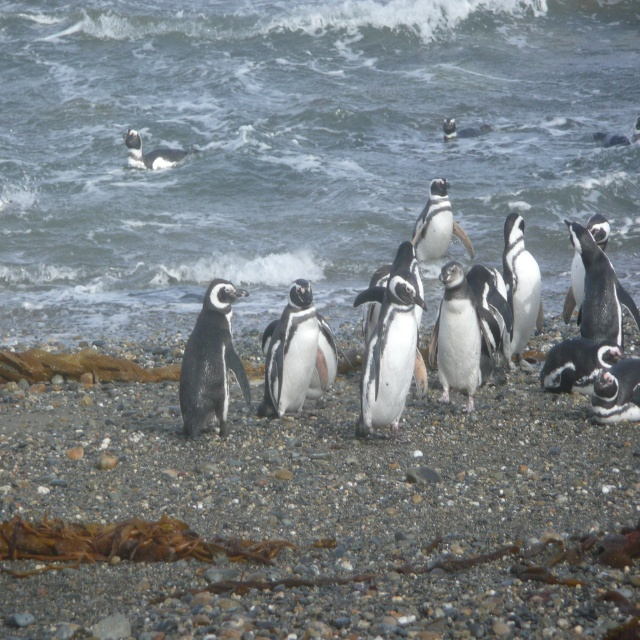Penguin: (356, 263, 426, 442), (171, 282, 246, 446), (560, 221, 640, 348), (423, 263, 490, 409), (258, 281, 324, 423), (359, 238, 430, 349), (258, 313, 340, 407), (411, 173, 472, 275), (504, 213, 542, 355), (538, 337, 623, 391), (467, 261, 508, 358), (587, 355, 640, 428), (120, 126, 194, 174), (443, 114, 459, 141)
